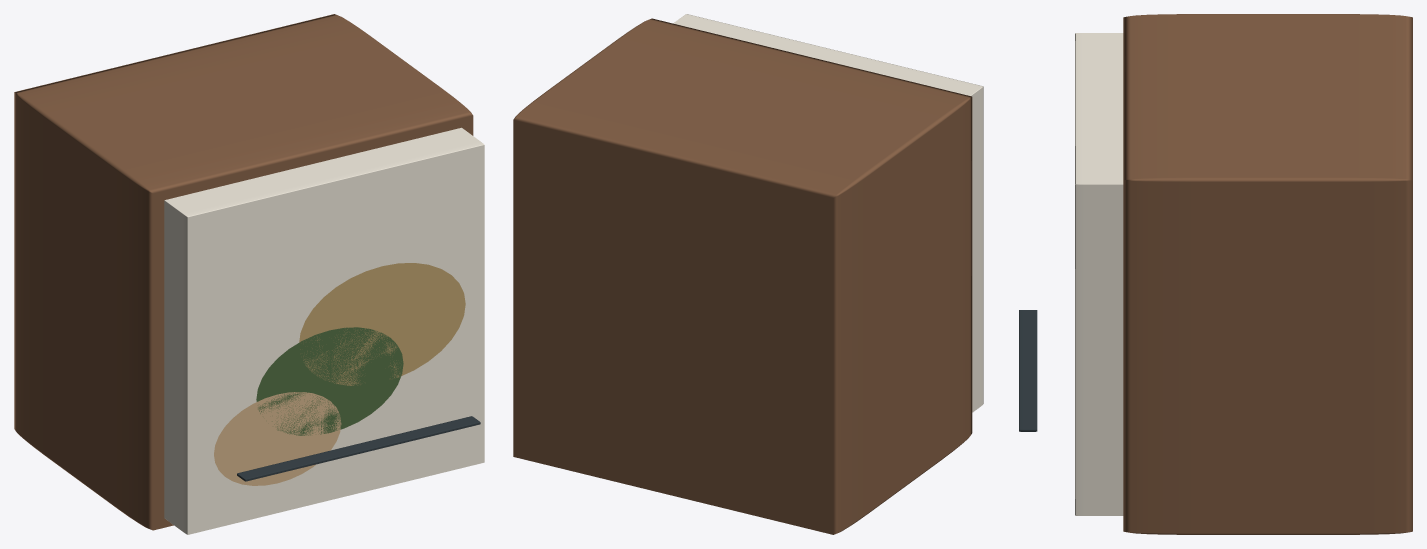
The model's file is studio-art-abstract.glb.
3 renders of one model, left to right at view 1: azimuth 30°, elevation 25°; view 2: azimuth 150°, elevation 25°; view 3: azimuth 270°, elevation 25°, orthographic. The views are drawn at different scales.
Visible parts, largest first — view 1: upholstery (×3), part (×3); view 2: upholstery (×2); view 3: upholstery (×3).
Boxes of the visible parts, left/top/right/bottom form: upholstery (×3): left=14, top=14, right=484, bottom=534; part (×3): left=214, top=263, right=465, bottom=485; upholstery (×2): left=513, top=14, right=983, bottom=534; upholstery (×3): left=1019, top=14, right=1412, bottom=534.
Size of the model in its own units: 1 by 1 by 1.
